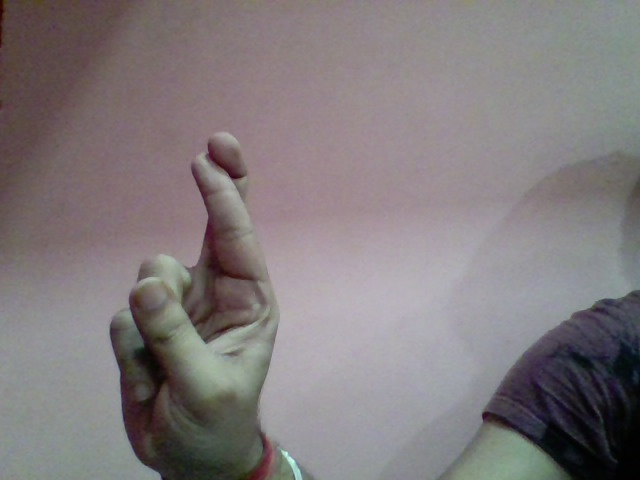r: (100, 125, 293, 467)
